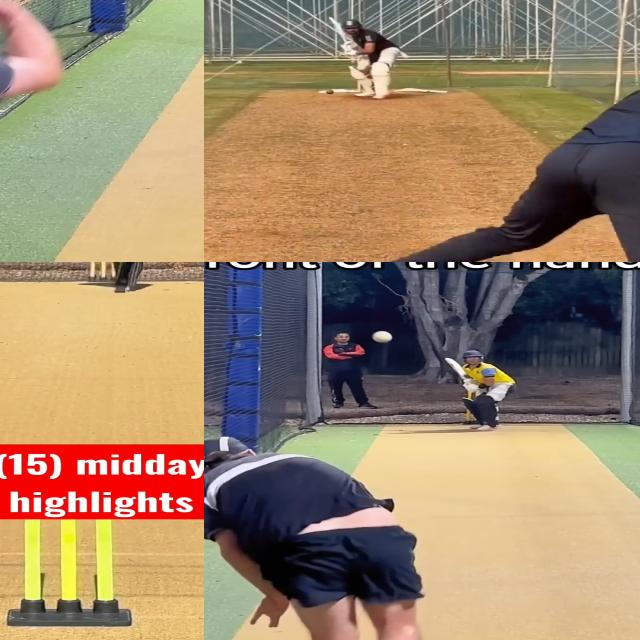Cricket ball: (371, 331, 393, 344), (326, 90, 335, 94)
Stumps: (10, 519, 132, 628), (90, 262, 117, 282)
